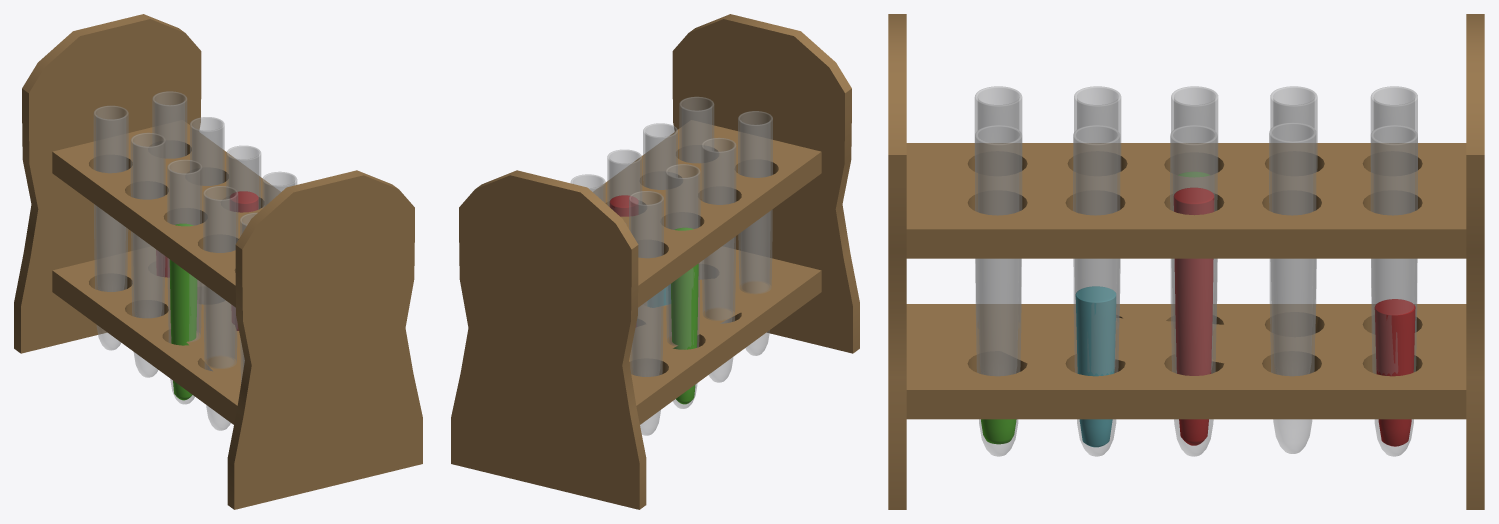
Rendered from TestTubeRack.fbx.
3 renders of one model, left to right at view 1: azimuth 30°, elevation 25°; view 2: azimuth 150°, elevation 25°; view 3: azimuth 270°, elevation 25°, orthographic. The views are drawn at different scales.
Visible parts, largest first — view 1: pCylinder36; view 2: pCylinder36; view 3: pCylinder36.
Part boxes in pixels (bbox=[...]): pCylinder36: bbox=[14, 14, 422, 509]; pCylinder36: bbox=[451, 14, 859, 509]; pCylinder36: bbox=[888, 14, 1484, 509].
Bounding box in the file's own units: 12.28 × 18.88 × 24.86.
